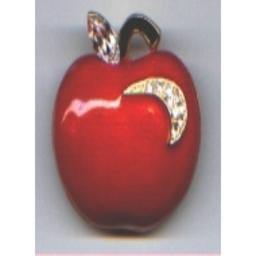apple: (50, 20, 199, 237)
